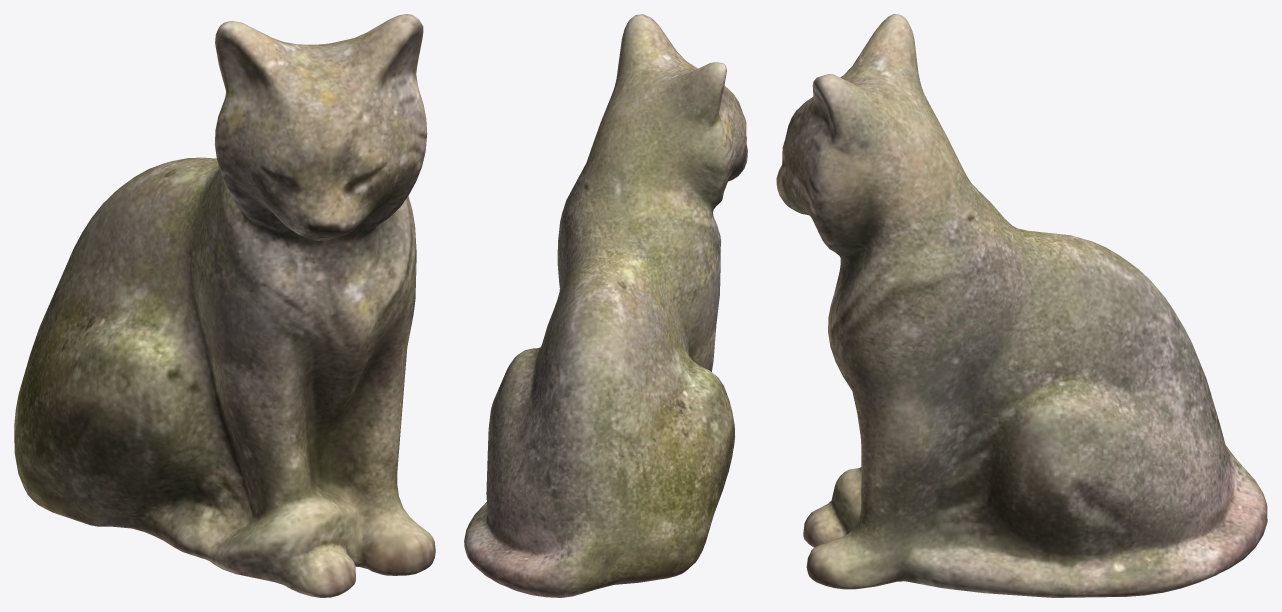
File: cat_statue.glb
The picture shows the model from 3 angles, left to right: view 1: azimuth 30°, elevation 25°; view 2: azimuth 150°, elevation 25°; view 3: azimuth 270°, elevation 25°; orthographic projection. The views are drawn at different scales.
Size of the model in its own units: 0.153 by 0.283 by 0.25.
Materials: 1 (1 with a texture image).
